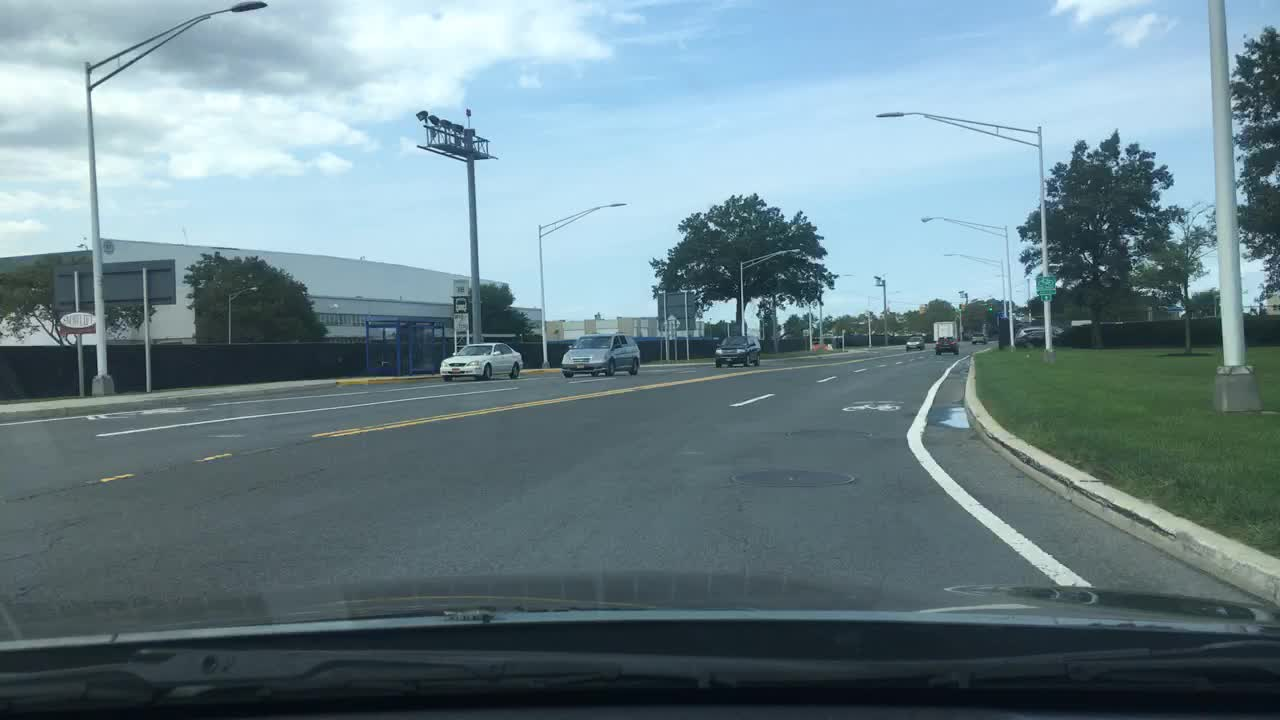car: (441, 340, 524, 386), (563, 332, 641, 378), (714, 334, 764, 369), (1013, 327, 1064, 348), (935, 335, 958, 354), (904, 333, 926, 350), (970, 330, 988, 345)
traffic light: (919, 303, 925, 316), (958, 301, 965, 311), (985, 300, 991, 311)
traffic sign: (52, 258, 175, 308), (657, 291, 692, 329), (451, 278, 471, 328), (1038, 273, 1055, 297), (664, 314, 680, 331), (668, 330, 676, 342)
truck: (932, 320, 955, 336)
